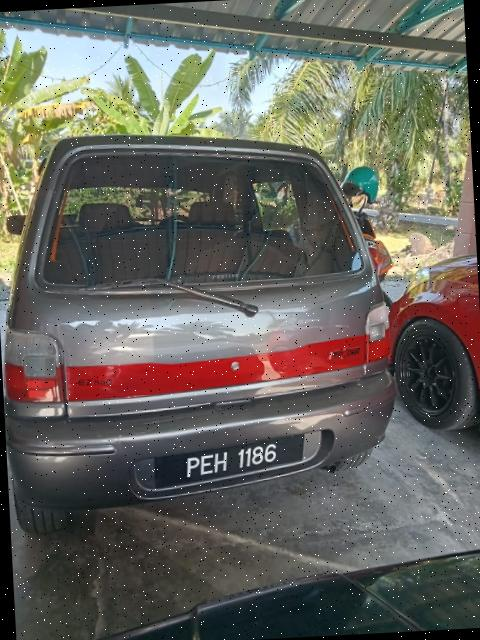License_Plate: (154, 442, 311, 484)
car: (1, 113, 401, 537)
